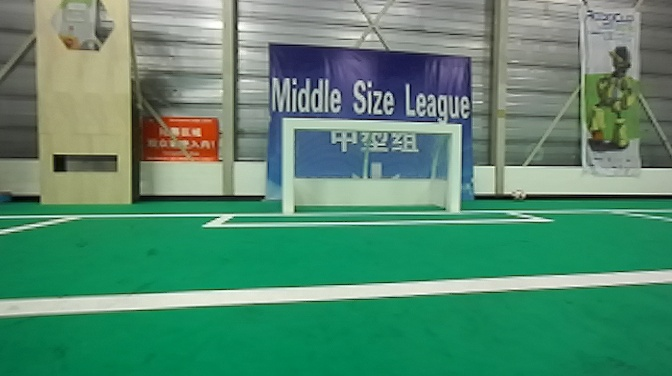ball: (506, 178, 536, 205)
goalpost: (276, 110, 298, 218), (444, 114, 465, 215)
